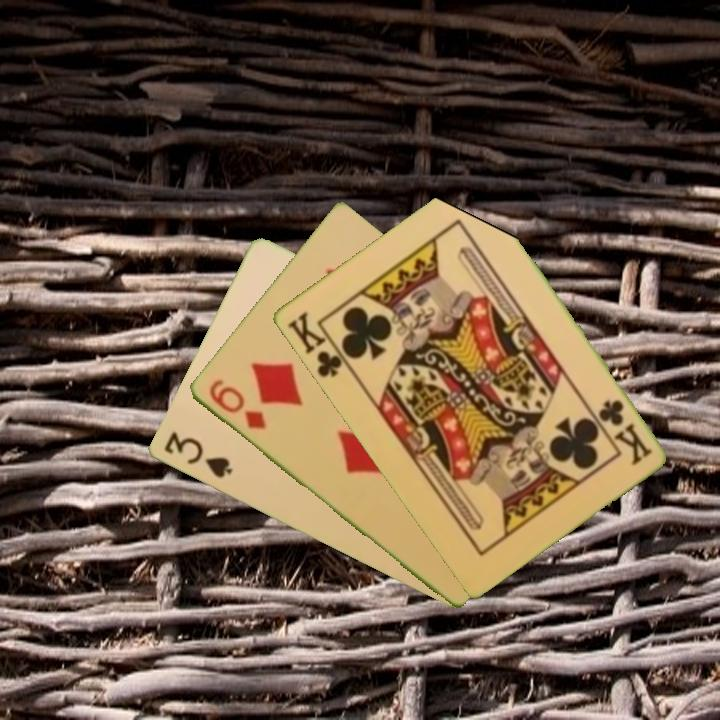3s: (160, 428, 235, 482)
6d: (204, 375, 269, 433)
Kc: (283, 308, 353, 380), (594, 395, 655, 468)
